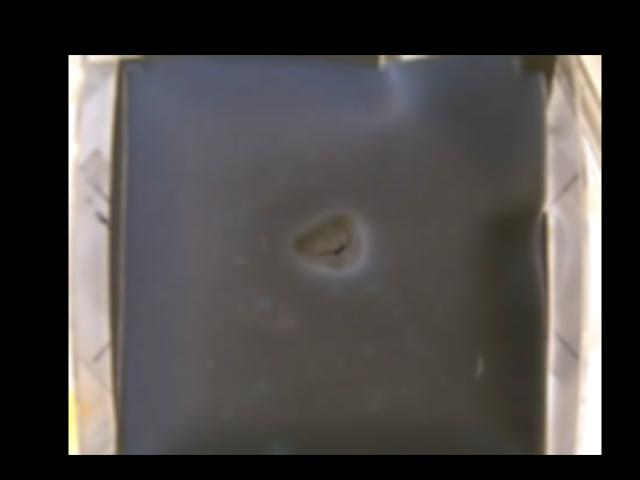Pebble: (295, 211, 363, 273)
